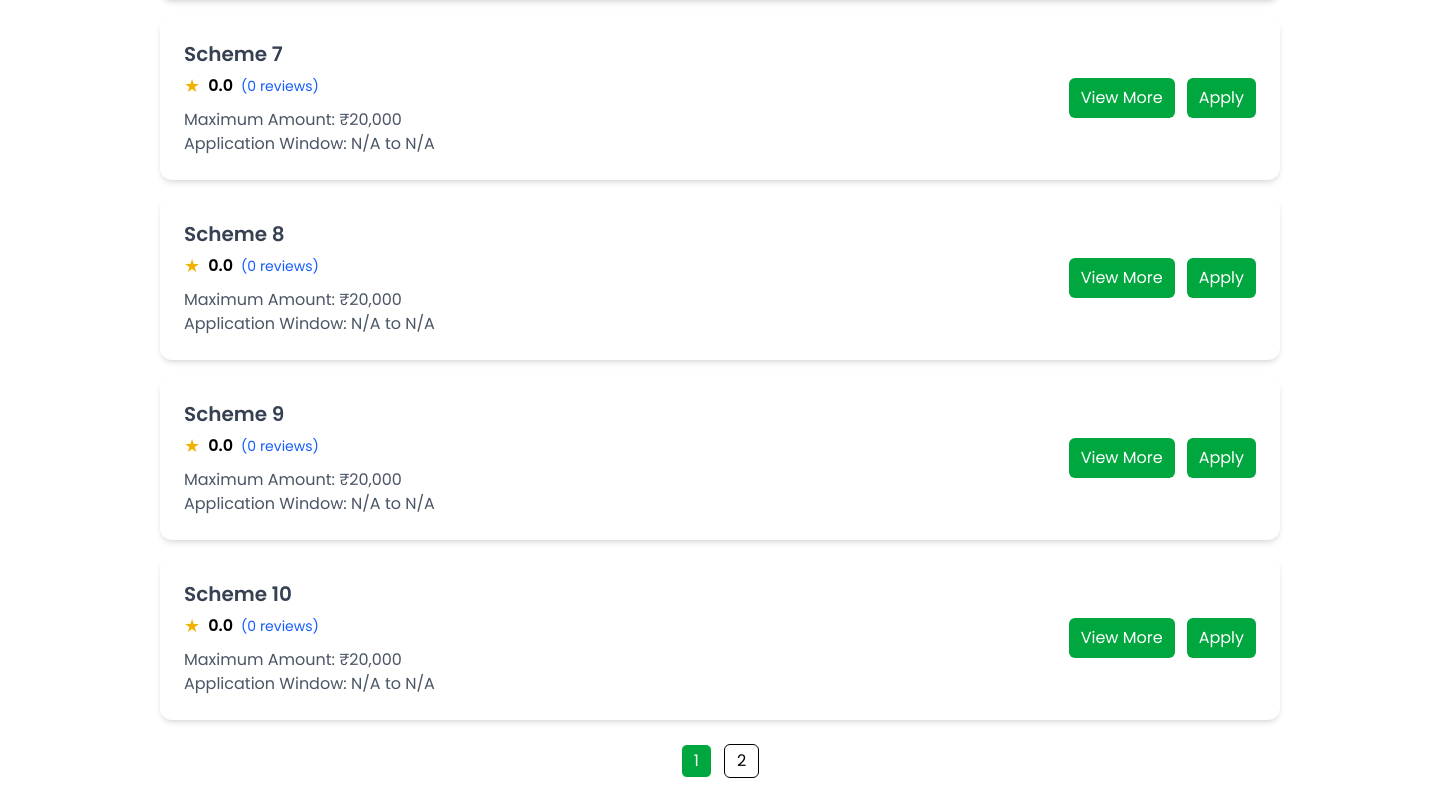
Scenario: Subsidy_List Component › navigates to next page via page number button
The image size is (1440, 810).
(page scrolled)
Click the button "2": (742, 761) [724,744,759,778]
(page scrolled)
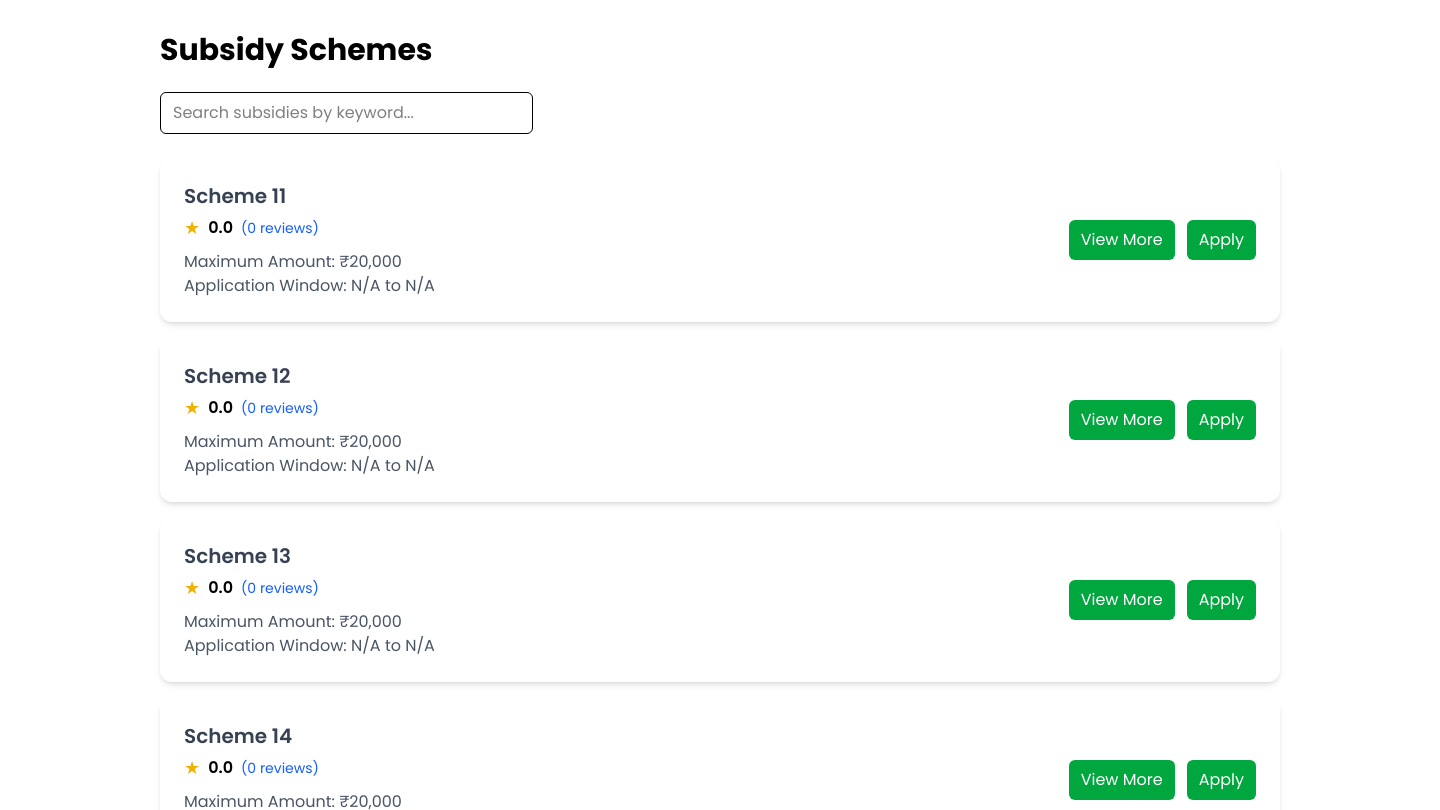
Expected: the heading "Scheme 11" is shown, [184,182,286,210]
